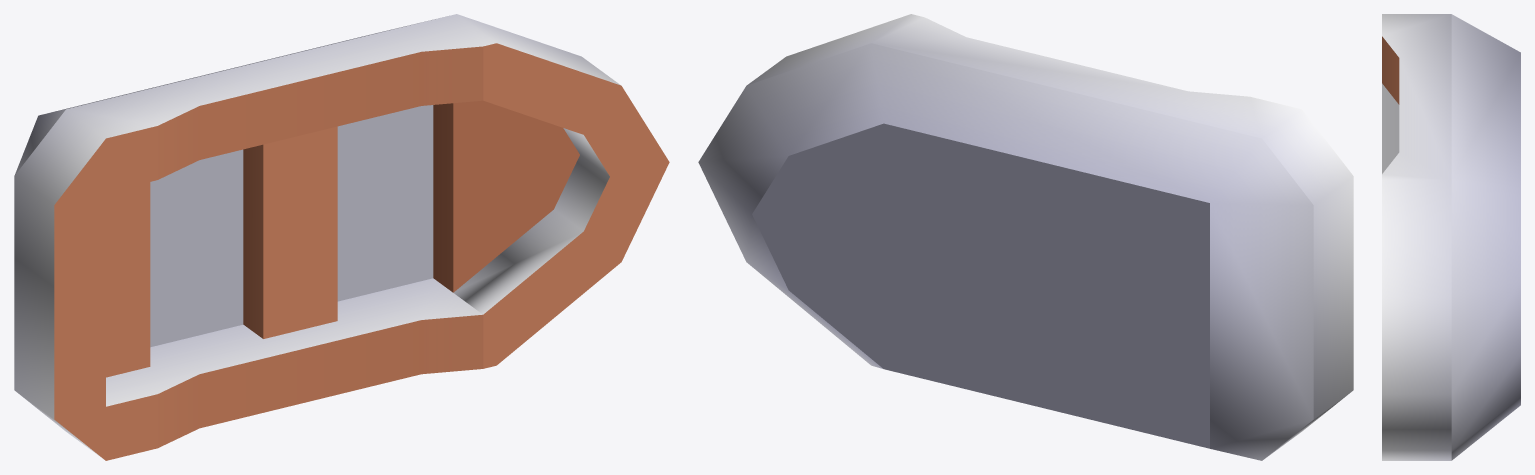
The model's file is SM_Rowboat.obj.
3 renders of one model, left to right at view 1: azimuth 30°, elevation 25°; view 2: azimuth 150°, elevation 25°; view 3: azimuth 270°, elevation 25°, orthographic. The views are drawn at different scales.
Parts seen in each view (by area): view 1: SM_Rowboat; view 2: SM_Rowboat; view 3: SM_Rowboat.
Part boxes in pixels (bbox=[...]): SM_Rowboat: bbox=[14, 14, 669, 460]; SM_Rowboat: bbox=[698, 14, 1353, 460]; SM_Rowboat: bbox=[1382, 14, 1520, 460].
Size of the model in its own units: 390 by 195 by 87.51.
Materials: 1 (1 with a texture image).
